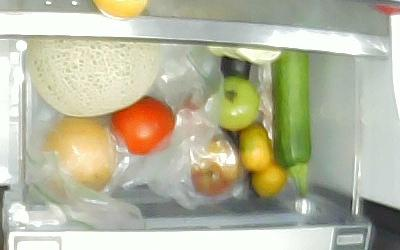melon: (27, 38, 157, 116)
pear_vinyl: (41, 118, 120, 194)
prune_vinyl: (190, 136, 239, 196)
tangerine: (238, 124, 273, 170), (253, 159, 287, 199)
tomato: (112, 96, 176, 154), (216, 75, 259, 130)
zucchini: (271, 49, 312, 197)
